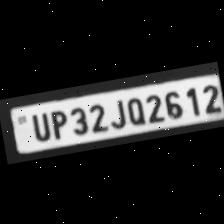1: (180, 82, 202, 116)
2: (196, 79, 222, 115), (84, 99, 107, 134), (141, 90, 164, 124)
3: (64, 101, 89, 135)
6: (158, 86, 184, 119)
J: (103, 95, 127, 130)
P: (45, 104, 69, 138)
Q: (122, 92, 146, 125)
U: (25, 108, 51, 142)
